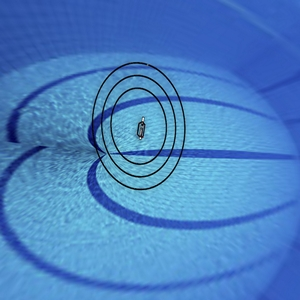circle: (82, 51, 199, 196)
submarine: (131, 114, 152, 144)
